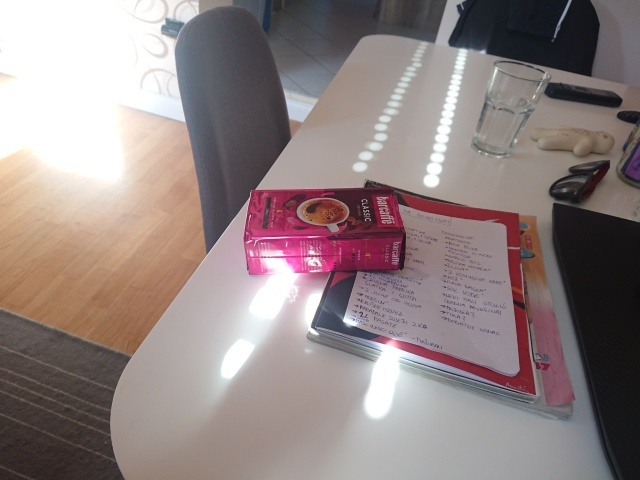Barcaffe Classic Original 225g: (241, 185, 408, 277)
